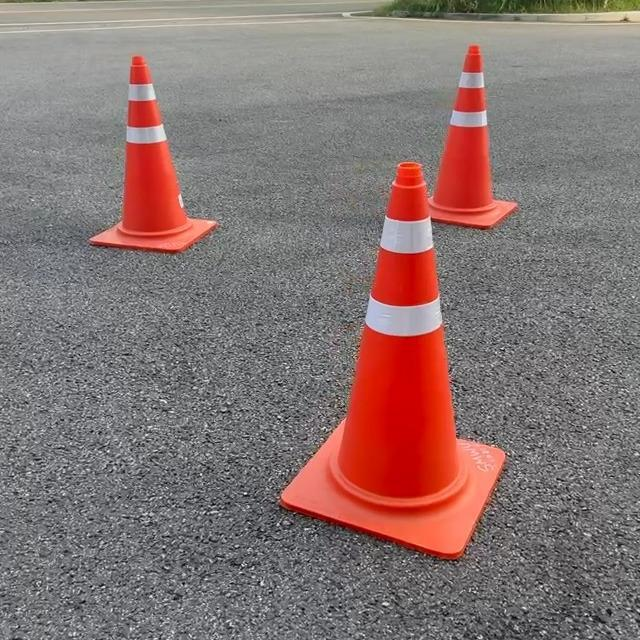fallen_object: (249, 149, 530, 626), (43, 33, 237, 260), (403, 23, 516, 284)
